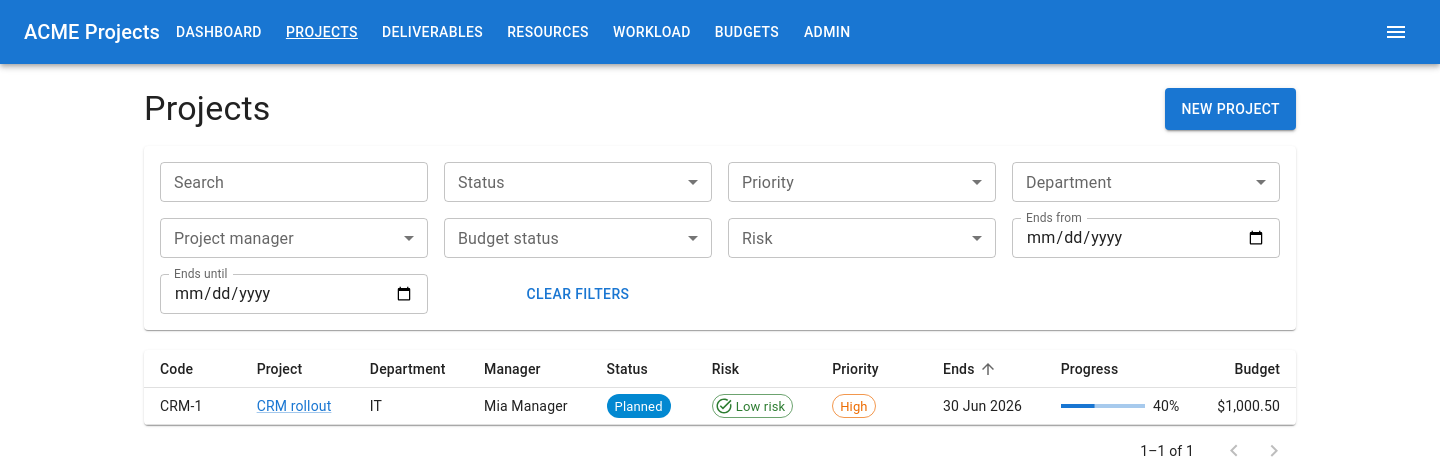
Scenario: signing in › signs out on the server and here
The image size is (1440, 474).
Click the button named "Menu". click: (1396, 32)
box: [1376,12,1416,52]
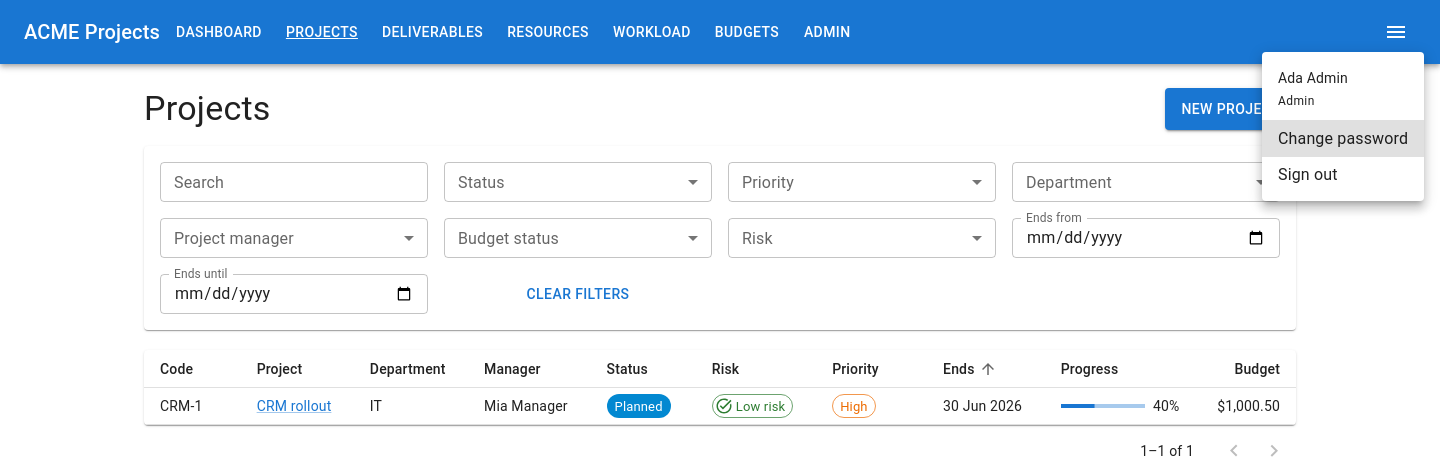
Click the menu item "Sign out". click: (1308, 174)
box: [1278,165,1338,184]
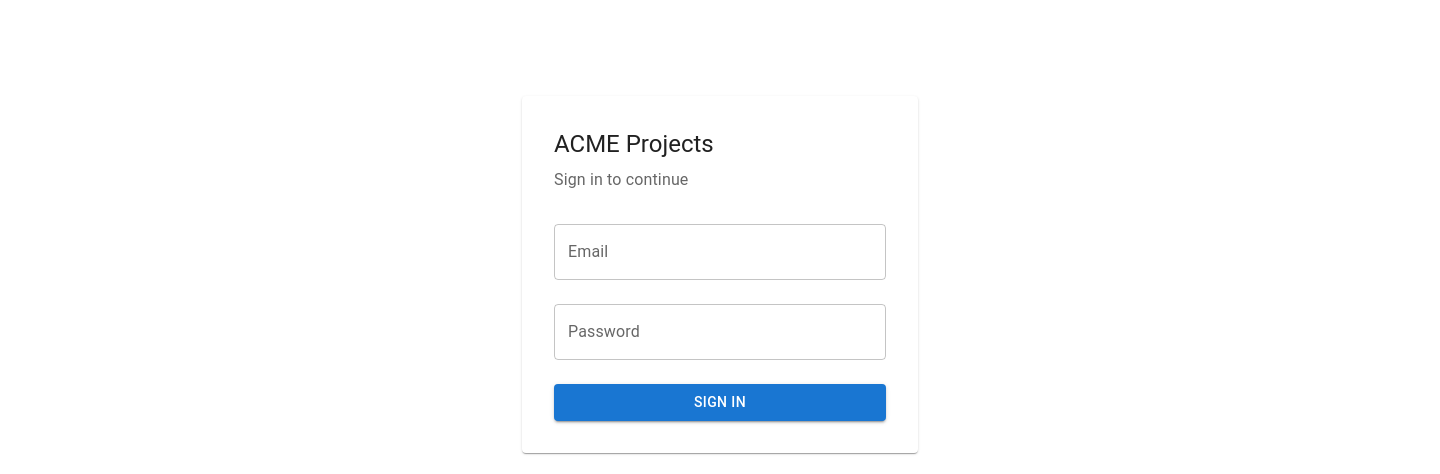
Expected: the password field labelled "Password" is shown, [554,304,886,360]
